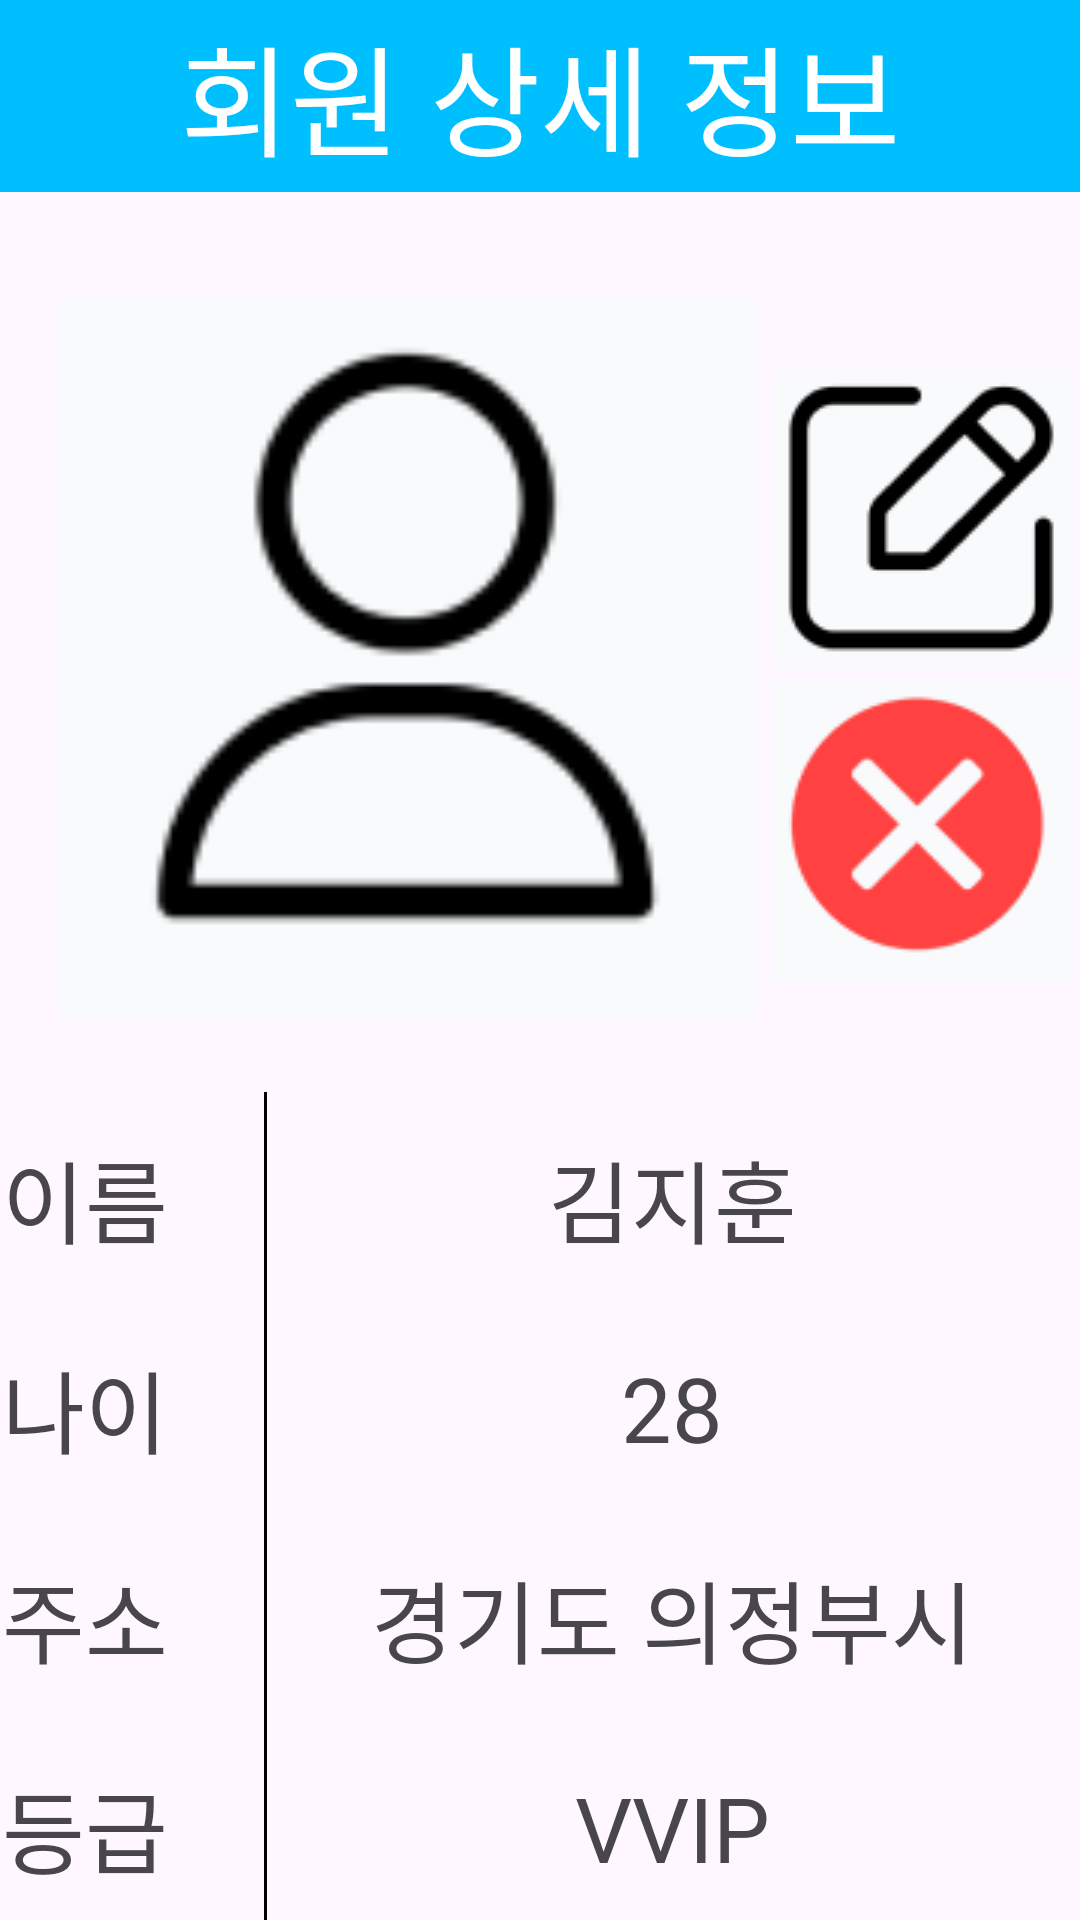

Icon click points for this 1080w x 1920h phone screenshot, format point (x, y):
user_delete Button: point (918, 824)
user_update Button: point (921, 519)
